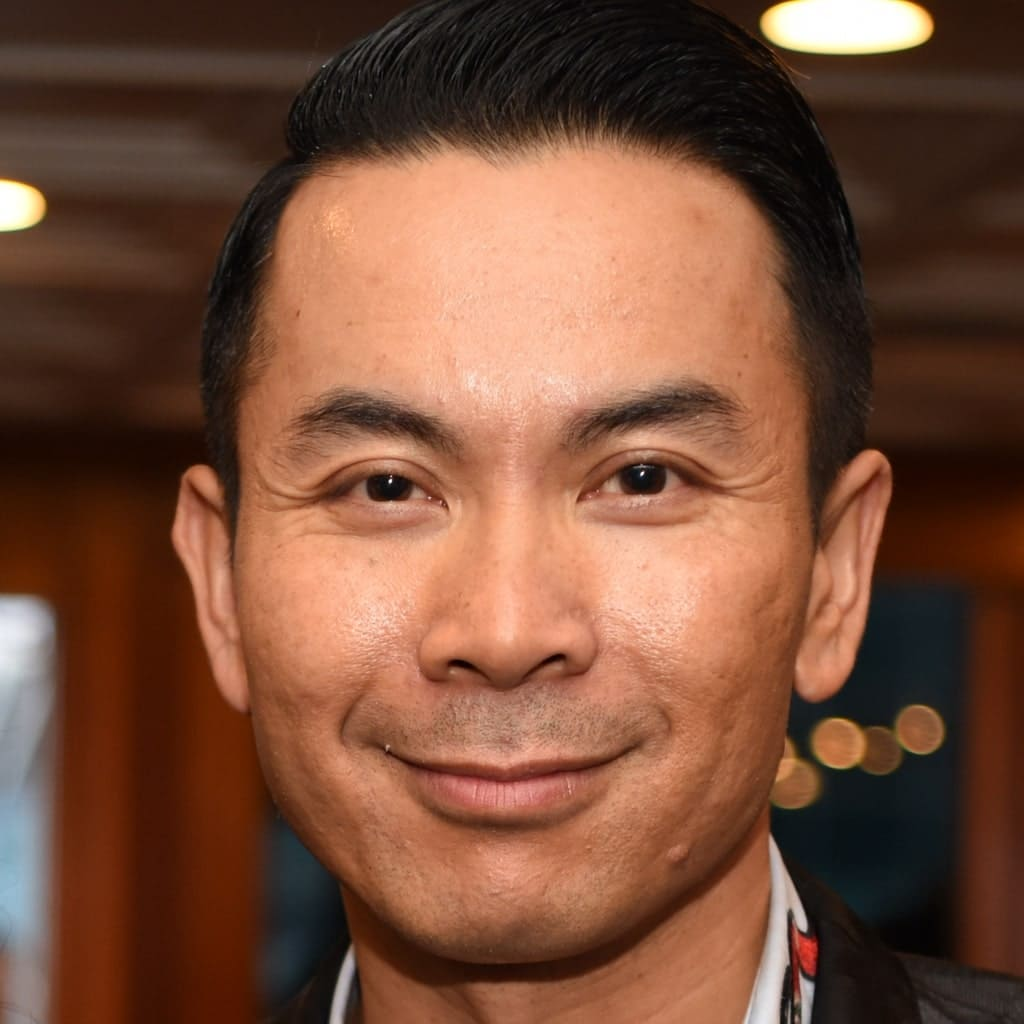without_mask: (245, 265, 763, 854)
